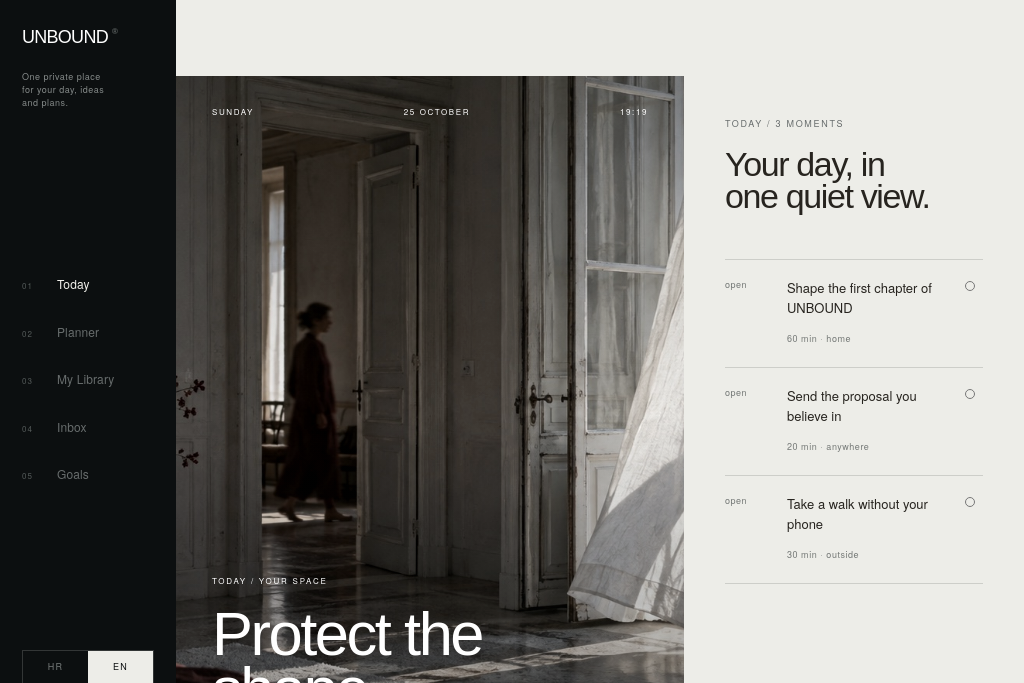
Test: UNBOUND Life OS interactions › offers useful monthly and yearly planner views
Click the link "02 Planner".
click(61, 331)  # box [22,323,99,340]
(page scrolled)
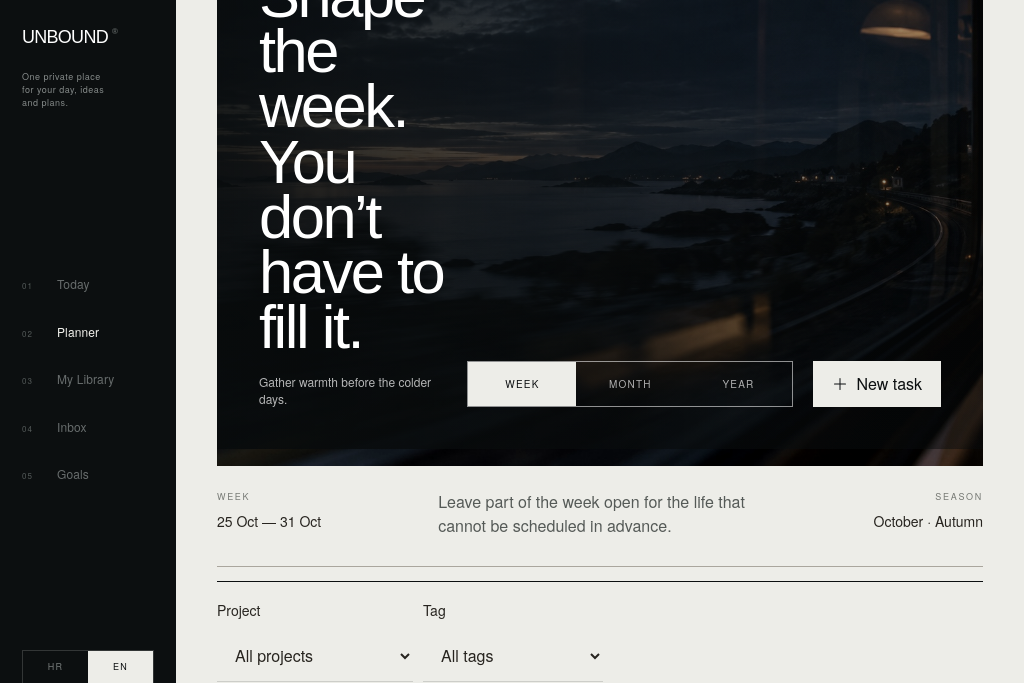
Click the button "Month".
click(630, 384)  # box [576,362,684,406]
(page scrolled)
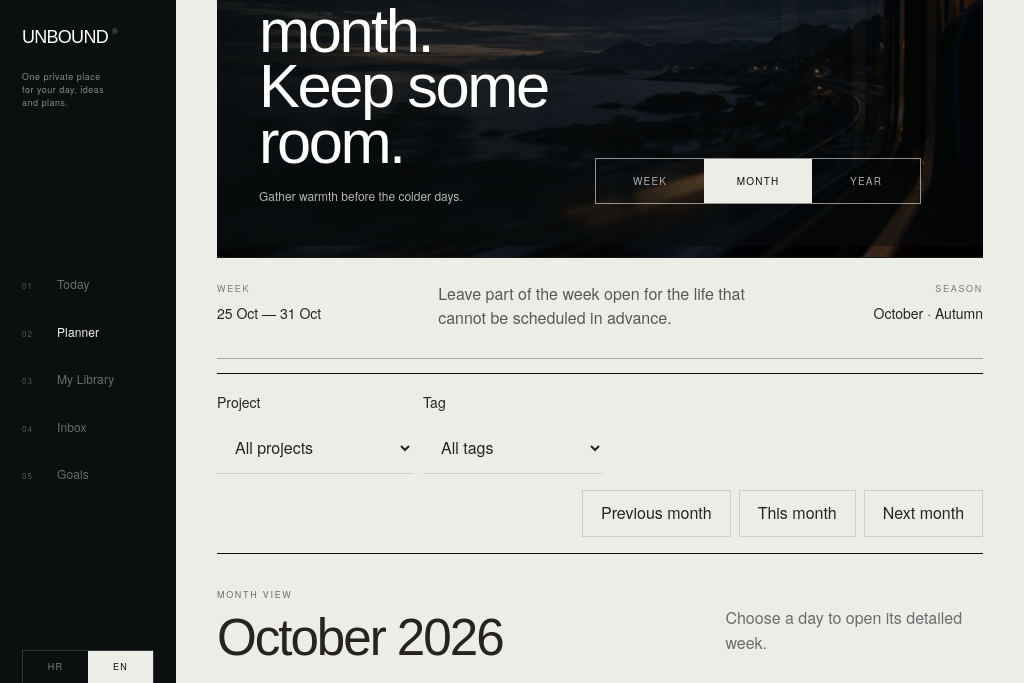
Check: the text "Choose a day to open its detailed week." is shown, box [725,606,983,656]
Click the button "Year".
click(866, 181)  # box [812,159,920,203]
(page scrolled)
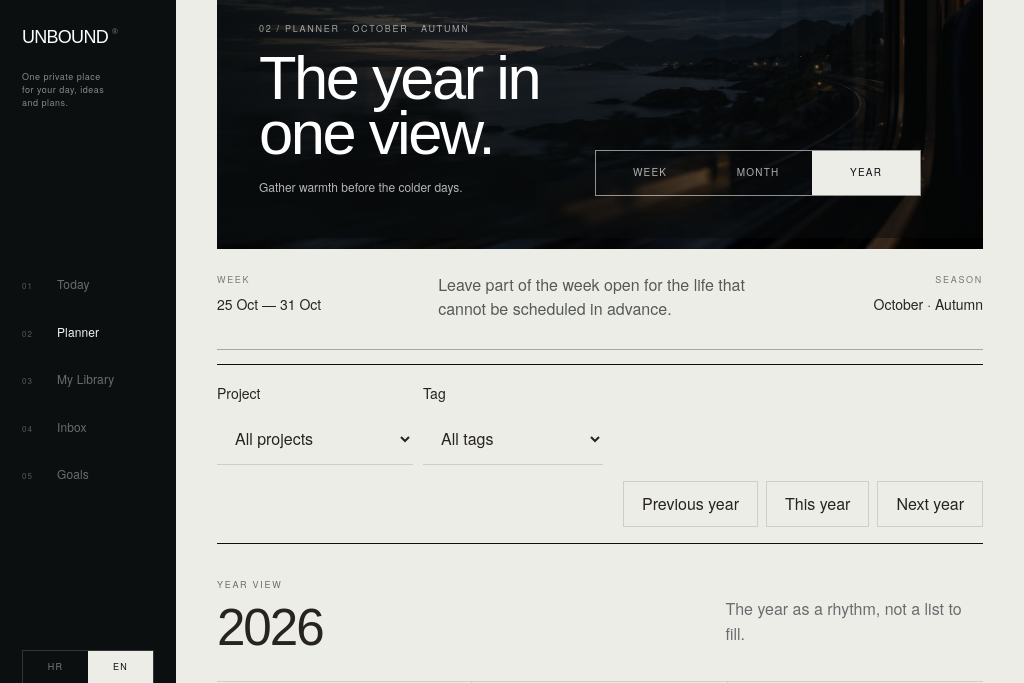
Check: the heading "2026" is shown, box [217,599,323,656]
Check: the text "The year as a rhythm, not a list to fill." is shown, box [725,597,983,646]
